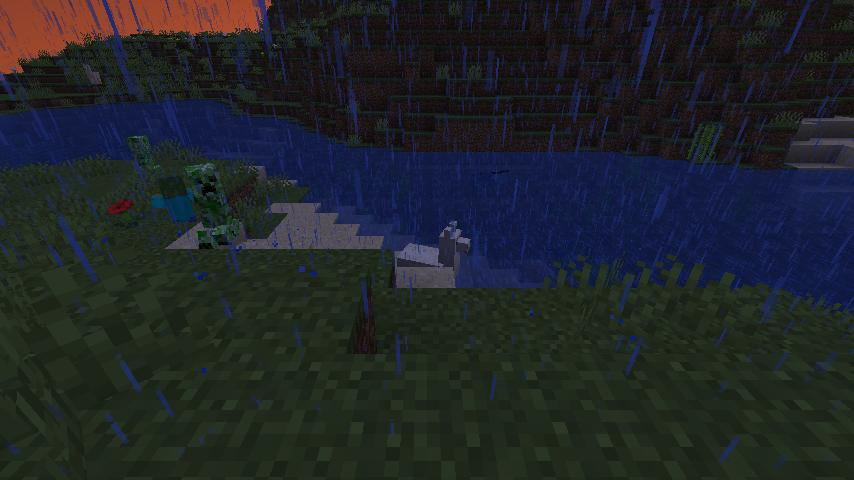creeper: (185, 161, 244, 253), (126, 133, 160, 176)
llama: (394, 218, 473, 278), (81, 62, 103, 86)
zombie: (152, 169, 197, 228)
